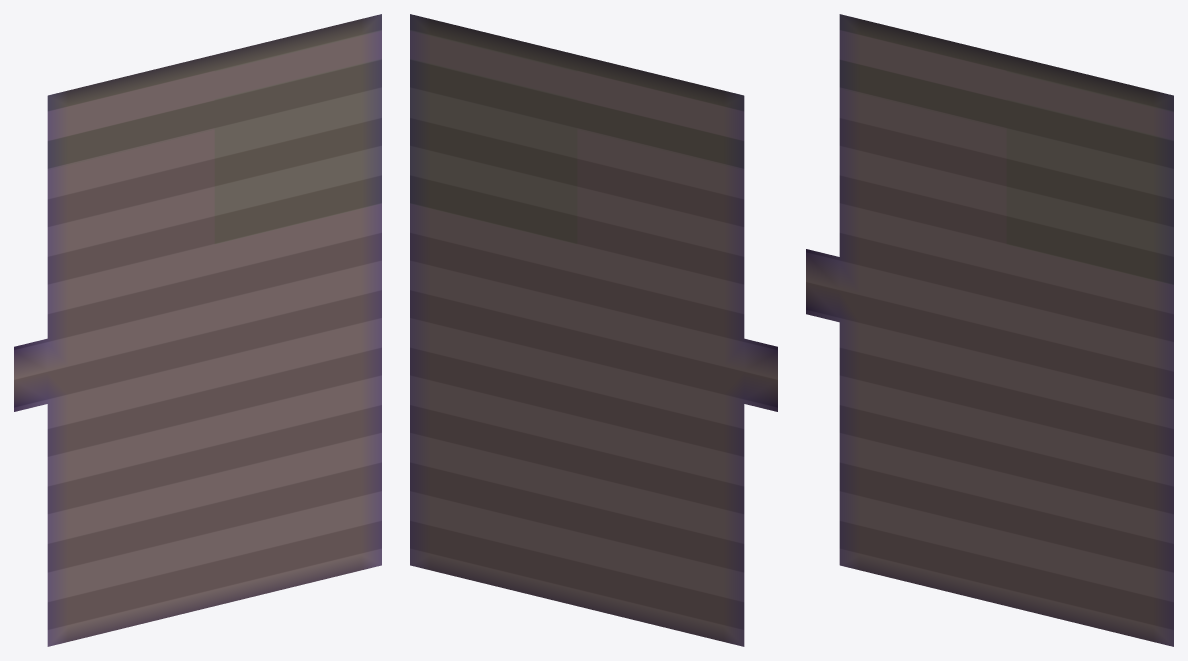
The model's file is SM_000218_grass01_G.fbx.
3 views of the same model, side by side, from view 1: azimuth 30°, elevation 25°; view 2: azimuth 150°, elevation 25°; view 3: azimuth 330°, elevation 25° (orthographic).
Parts seen in each view (by area): view 1: SM_000218.001; view 2: SM_000218.001; view 3: SM_000218.001.
Boxes of the visible parts, box(x1,y1,x2,y2) form: SM_000218.001: box(14, 14, 381, 646); SM_000218.001: box(410, 14, 777, 646); SM_000218.001: box(806, 14, 1173, 646).
Size of the model in its own units: 42.91 by 61.46 by 0.000266.
